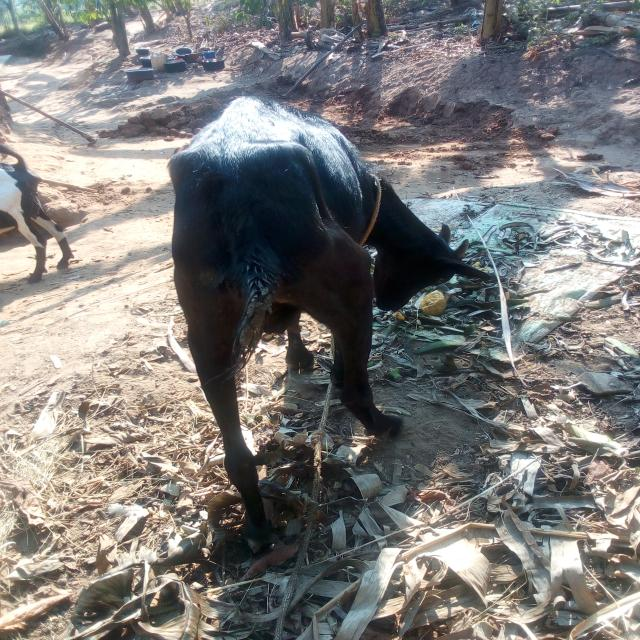goat: (84, 68, 529, 582)
